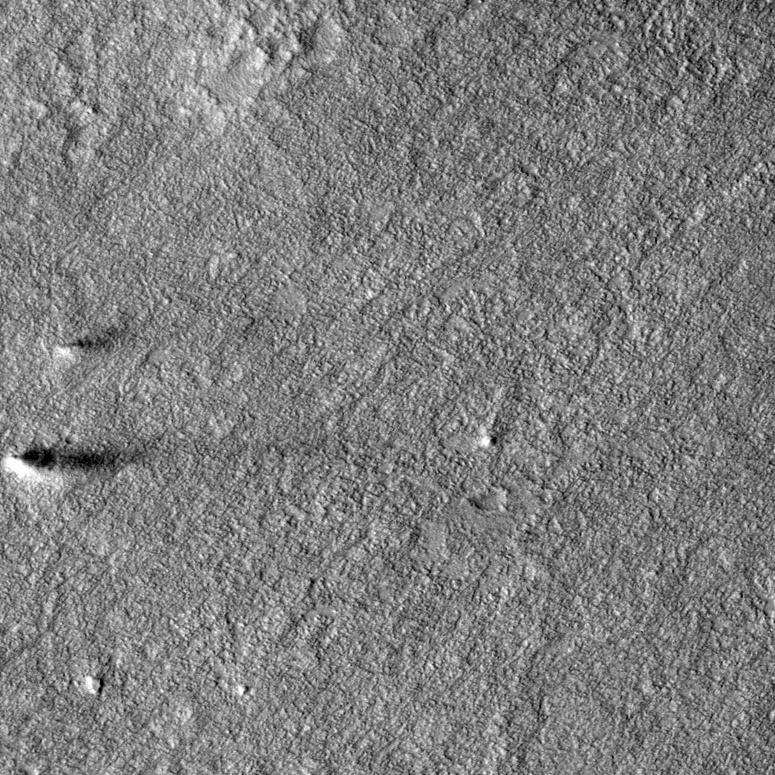dust_devil: (1, 441, 142, 484), (54, 322, 121, 363)
